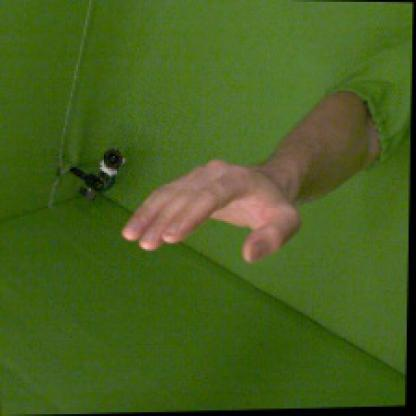Hand: (121, 156, 302, 265)
